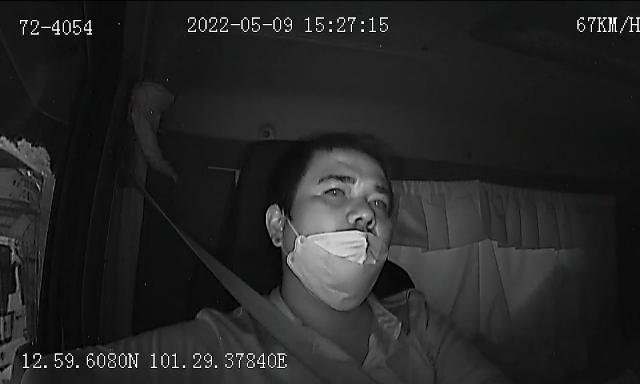SafeDriving: (318, 180, 350, 204), (363, 188, 392, 212)
Seatbelt: (137, 172, 341, 384)
